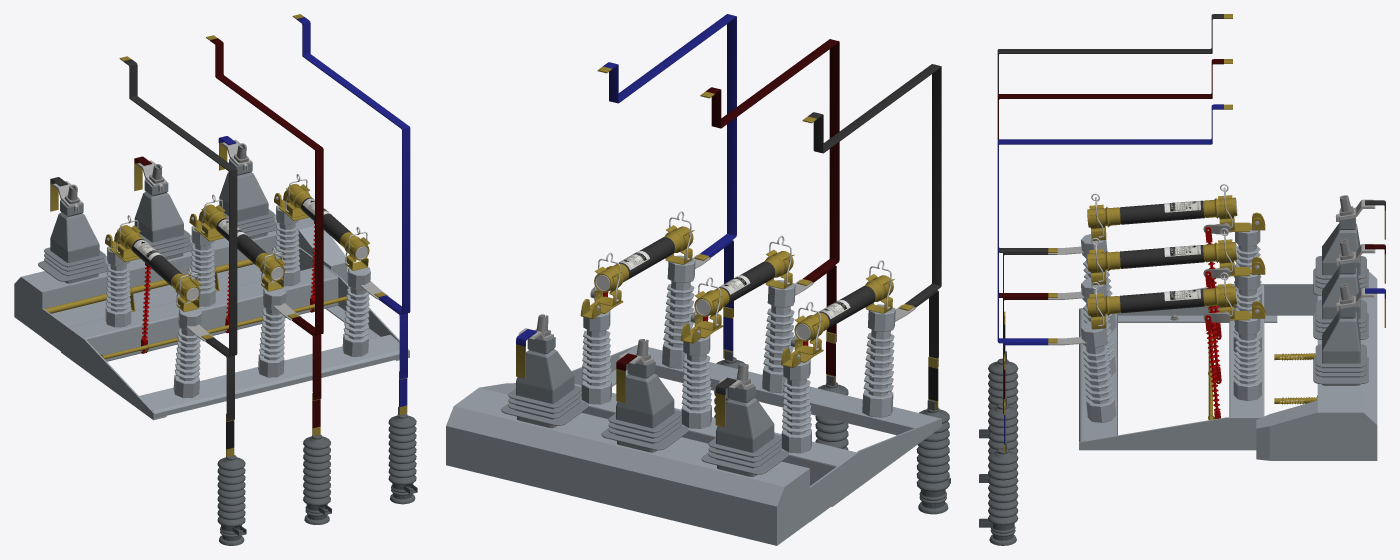
Rendered from INNER_ALL.fbx.
3 renders of one model, left to right at view 1: azimuth 30°, elevation 25°; view 2: azimuth 150°, elevation 25°; view 3: azimuth 270°, elevation 25°, orthographic. The views are drawn at different scales.
Parts seen in each view (by area): view 1: ORIGEN1_Object039; view 2: ORIGEN1_Object039; view 3: ORIGEN1_Object039.
Part boxes in pixels (x1=…): ORIGEN1_Object039: x1=14, y1=14, x2=417, y2=545; ORIGEN1_Object039: x1=446, y1=14, x2=950, y2=545; ORIGEN1_Object039: x1=979, y1=14, x2=1385, y2=545.
Bounding box in the file's own units: 1.03 × 1.44 × 1.21.
Materials: 2 (2 with a texture image).
